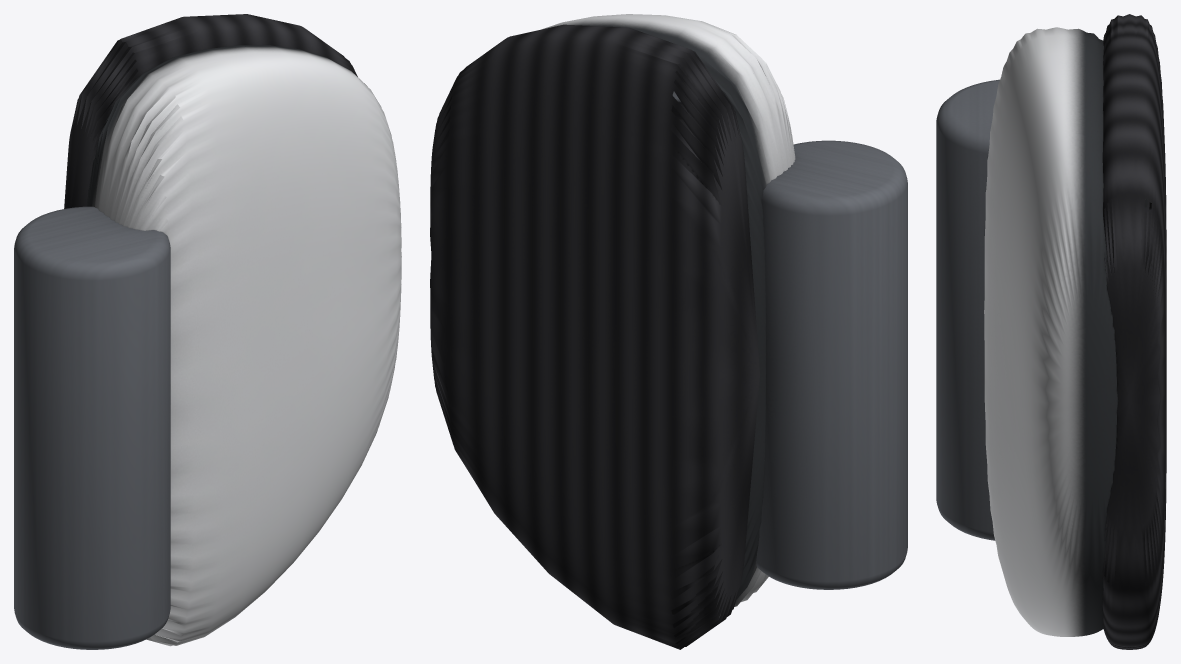
The model's file is right_toe.obj.
3 views of the same model, side by side, from view 1: azimuth 30°, elevation 25°; view 2: azimuth 150°, elevation 25°; view 3: azimuth 270°, elevation 25° (orthographic). The views are drawn at different scales.
Parts seen in each view (by area): view 1: right_toe; view 2: right_toe; view 3: right_toe.
Boxes of the visible parts, left/top/right/bottom form: right_toe: left=14, top=14, right=401, bottom=649; right_toe: left=430, top=14, right=907, bottom=649; right_toe: left=936, top=14, right=1166, bottom=649.
Size of the model in its own units: 0.0659 by 0.092 by 0.031.
Materials: 1 (1 with a texture image).
